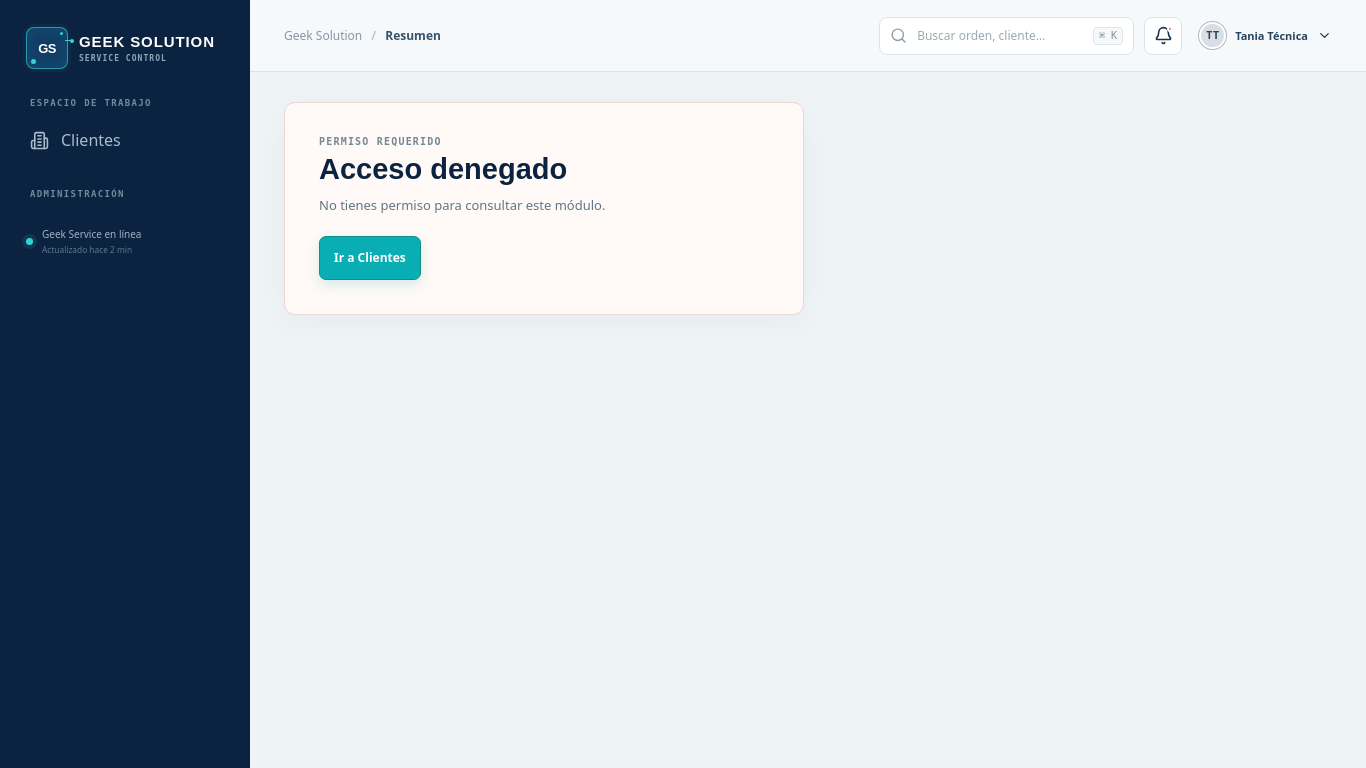
Test: AppShell › abre el listado persistente de Clientes desde la navegación autorizada
Click the button "Clientes" at (125,140), box [18, 118, 232, 162]
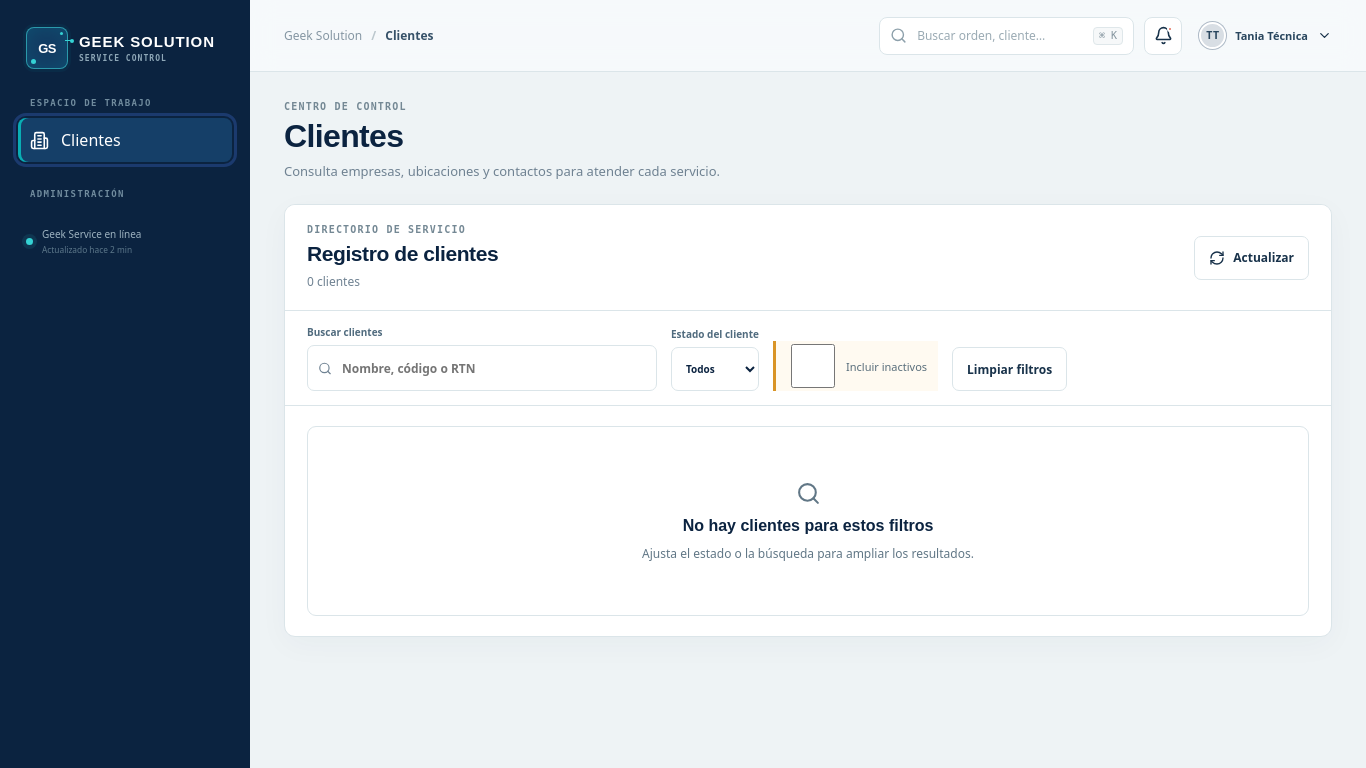
Check: the heading "Clientes" is shown, box [284, 118, 403, 154]
Check: the text "No hay clientes para estos filtros" is shown, box [683, 516, 933, 535]
